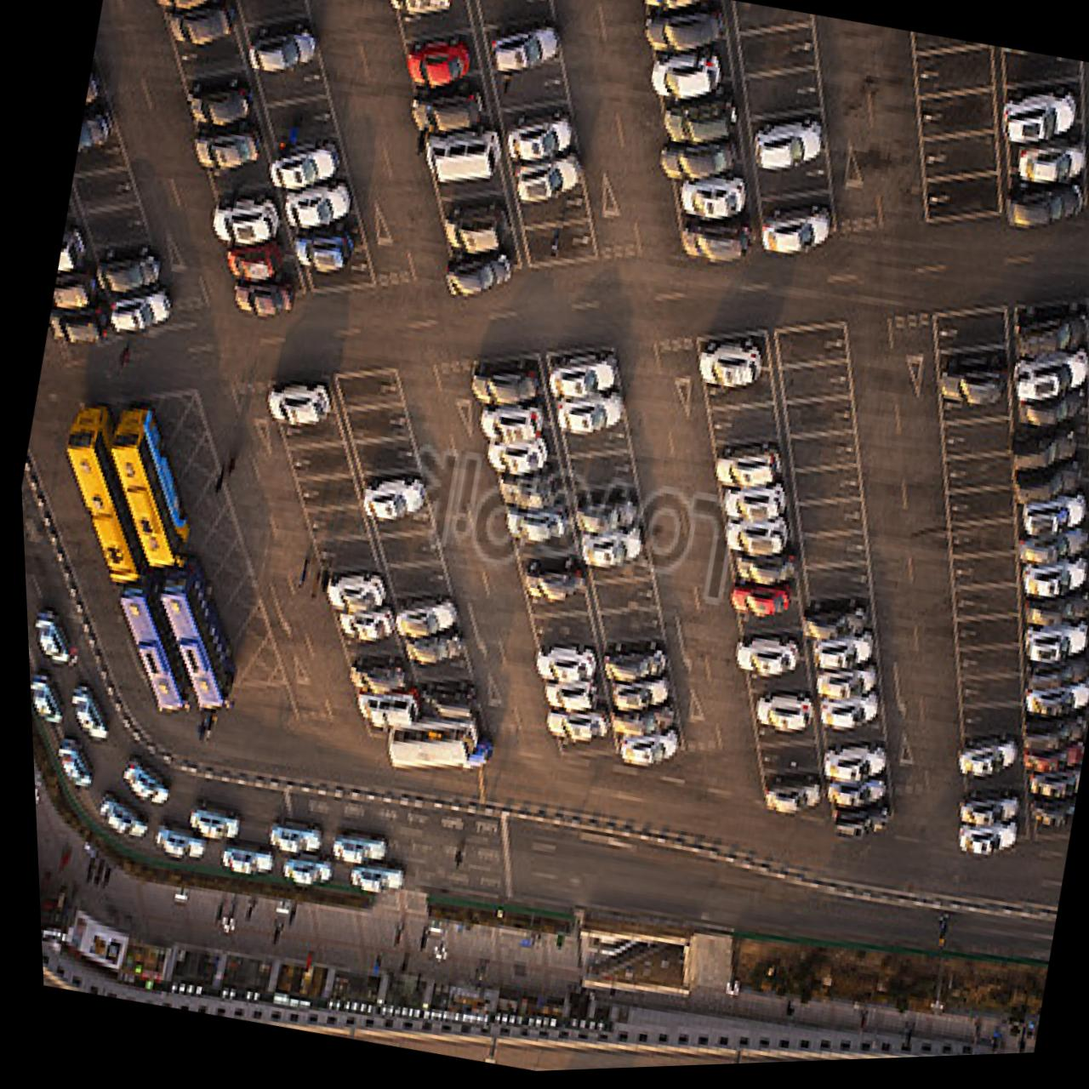cars: (625, 0, 738, 84), (634, 40, 740, 123), (391, 23, 488, 111), (682, 313, 780, 398), (649, 77, 748, 156), (481, 3, 570, 89), (1007, 280, 1089, 372), (414, 112, 502, 195), (665, 200, 757, 279), (992, 76, 1089, 150), (1000, 118, 1089, 198), (653, 128, 748, 202), (753, 187, 844, 264), (498, 98, 586, 177), (427, 186, 514, 265), (401, 74, 490, 150), (570, 502, 655, 580), (998, 171, 1088, 244), (704, 435, 794, 508), (257, 362, 346, 435), (540, 333, 623, 411), (504, 144, 590, 219), (238, 11, 326, 84), (462, 343, 551, 415), (671, 171, 763, 240), (714, 505, 802, 577), (595, 621, 677, 698), (720, 570, 809, 639), (742, 109, 833, 176), (718, 536, 813, 600), (544, 377, 639, 441), (565, 472, 647, 546), (262, 129, 351, 195), (922, 350, 1018, 411), (92, 233, 172, 306), (723, 622, 812, 687), (436, 246, 525, 311), (495, 487, 580, 555), (182, 68, 263, 138), (209, 187, 290, 257), (491, 453, 575, 520), (191, 114, 270, 184), (227, 262, 309, 329), (712, 476, 796, 541), (532, 703, 613, 770), (472, 387, 552, 454), (315, 555, 395, 622), (603, 688, 686, 752), (508, 548, 591, 612), (276, 173, 359, 237), (481, 418, 557, 487), (288, 211, 369, 275), (214, 232, 295, 295), (532, 660, 611, 724), (602, 662, 681, 725), (529, 631, 604, 697), (953, 810, 1028, 875), (354, 464, 438, 521), (105, 284, 183, 344), (397, 615, 471, 678), (387, 584, 462, 646), (165, 0, 242, 60), (329, 585, 403, 647), (42, 299, 113, 363), (1012, 510, 1089, 568), (755, 766, 827, 828), (612, 721, 684, 783), (1017, 542, 1089, 603), (1011, 412, 1088, 469), (1012, 442, 1089, 499), (405, 674, 486, 727), (1014, 481, 1089, 538), (814, 651, 884, 712), (816, 677, 886, 738), (1010, 343, 1089, 396), (366, 0, 469, 40), (807, 626, 878, 684), (417, 704, 485, 764), (949, 729, 1027, 779), (1014, 581, 1089, 633), (340, 646, 412, 700), (350, 673, 421, 727), (1021, 613, 1089, 669), (1021, 670, 1089, 726), (951, 784, 1030, 831), (745, 686, 820, 735), (822, 770, 893, 821), (821, 737, 889, 790), (1021, 643, 1089, 695), (1023, 709, 1088, 763), (800, 597, 866, 650), (1013, 383, 1088, 429), (828, 797, 895, 847), (362, 705, 426, 754), (1022, 733, 1083, 782), (1018, 794, 1076, 845), (1023, 763, 1078, 810), (150, 0, 225, 24)
empty: (892, 31, 1007, 130), (898, 86, 1009, 176), (731, 3, 831, 99), (915, 155, 1016, 247), (914, 123, 1012, 204), (739, 52, 836, 133), (415, 147, 510, 227), (695, 382, 786, 465), (485, 47, 579, 127), (922, 294, 1018, 371), (750, 141, 846, 218), (507, 165, 599, 245), (783, 447, 871, 529), (792, 516, 885, 593), (294, 246, 384, 319), (381, 0, 478, 67), (792, 546, 886, 615), (259, 89, 345, 164), (554, 401, 650, 468), (928, 405, 1019, 475), (520, 215, 604, 290), (360, 515, 453, 581), (586, 566, 668, 640), (790, 488, 875, 559), (70, 112, 142, 194), (69, 158, 143, 237), (768, 348, 856, 413), (327, 356, 415, 421), (81, 193, 156, 269), (575, 538, 660, 605), (196, 144, 277, 214), (380, 545, 466, 610), (593, 594, 672, 664), (565, 438, 647, 505), (247, 42, 329, 109), (348, 421, 430, 488), (357, 492, 445, 554), (923, 444, 1018, 501), (291, 488, 378, 549), (282, 421, 358, 490), (291, 457, 367, 526), (305, 520, 381, 589), (939, 507, 1024, 568), (789, 418, 868, 482), (337, 396, 424, 454), (519, 602, 599, 665), (539, 715, 621, 776), (781, 387, 860, 450), (944, 576, 1028, 633), (937, 382, 1014, 444), (775, 311, 852, 373), (517, 575, 596, 635), (271, 402, 347, 464), (327, 617, 408, 675), (173, 26, 245, 91), (949, 661, 1031, 718), (815, 704, 889, 767), (938, 471, 1019, 528), (505, 516, 579, 578), (950, 606, 1028, 662), (950, 757, 1033, 808), (745, 736, 828, 787), (742, 716, 828, 765), (403, 646, 480, 698), (947, 699, 1031, 746), (946, 544, 1024, 594), (953, 638, 1027, 690), (730, 604, 812, 648), (472, 0, 558, 41), (735, 664, 819, 704), (225, 0, 317, 34)
